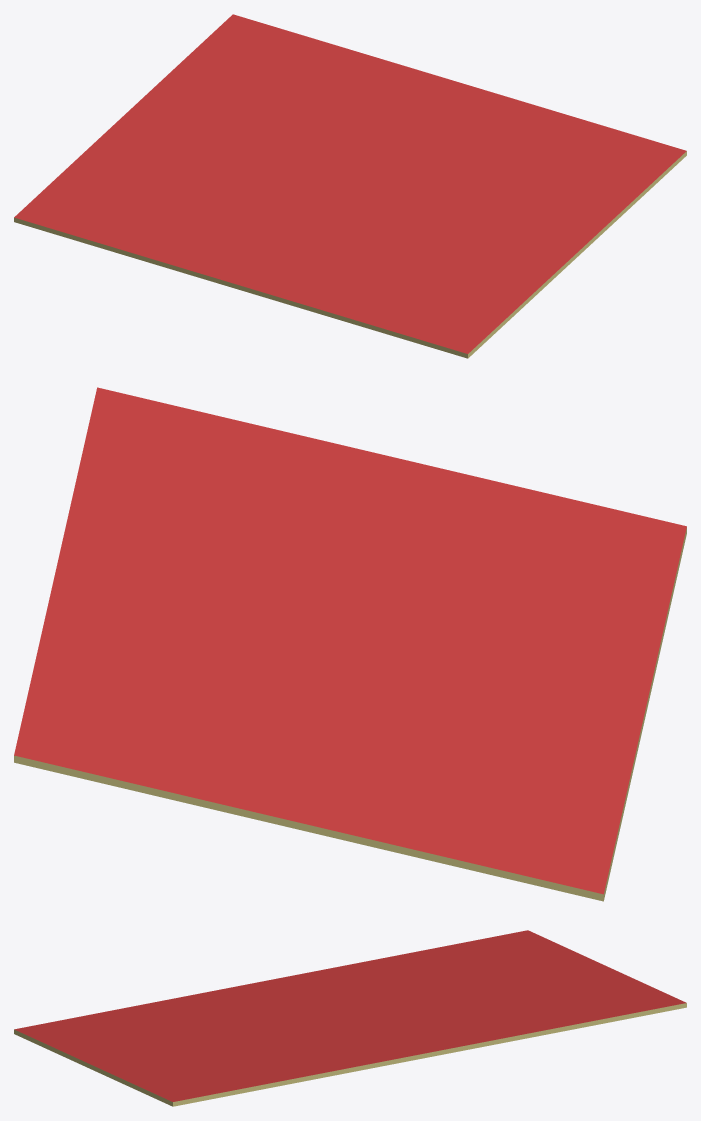
3 views of the same model, one above another, from view 1: azimuth 30°, elevation 25°; view 2: azimuth 150°, elevation 25°; view 3: azimuth 270°, elevation 25° (orthographic). The views are drawn at different scales.
Size of the model in its own units: 11.41 by 13.18 by 1.71.
